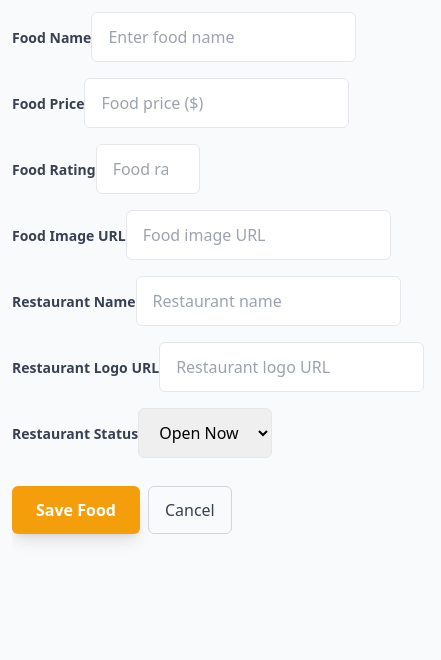
it: FoodForm › shows validation errors for empty fields
Click the button "Save Food". click: point(76, 510)
box: [12,486,140,534]
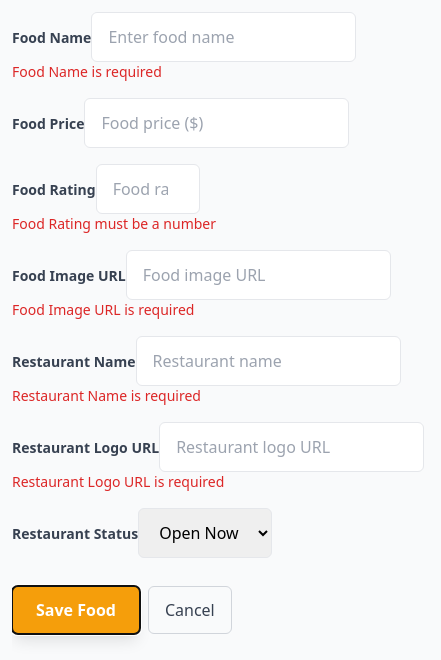
Expected: the text "Food Name is required" is shown, [12,62,162,81]
Expected: the text "Food Rating must be a number" is shown, [12,214,216,233]
Expected: the text "Food Image URL is required" is shown, [12,300,194,319]
